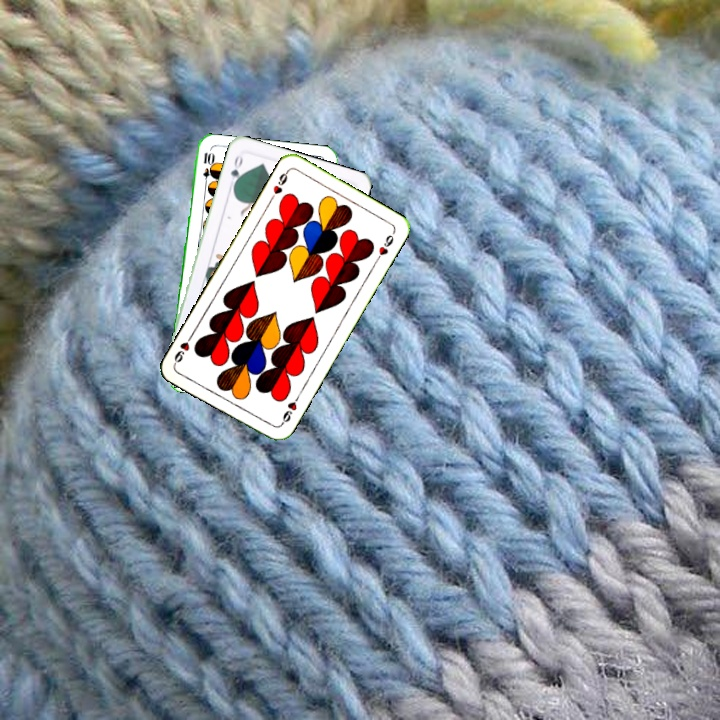E10: (199, 148, 214, 189)
GO: (226, 151, 246, 191)
H9: (276, 391, 302, 428), (266, 166, 291, 204)
